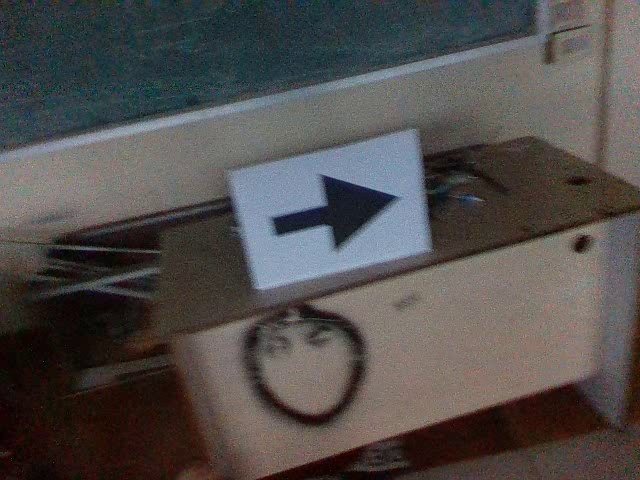Right: (267, 169, 401, 256)
